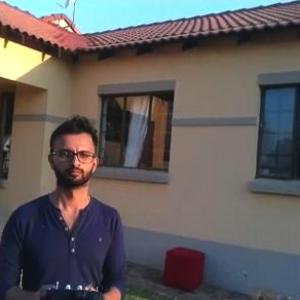follow: (0, 108, 131, 299)
null: (235, 272, 300, 299)
